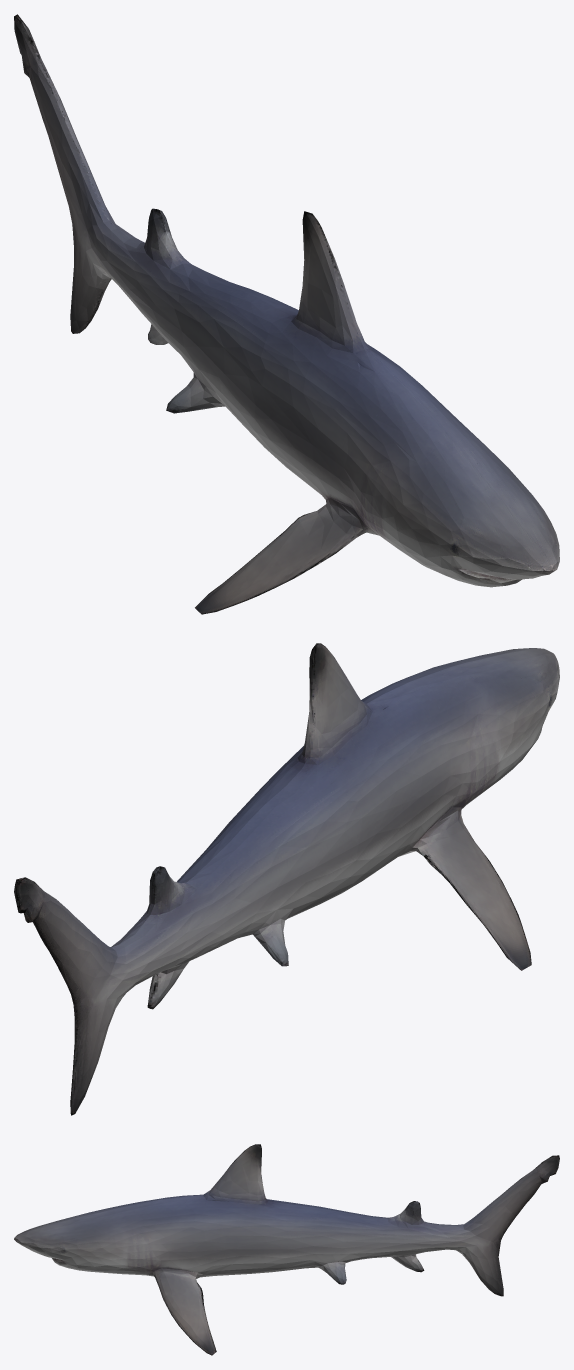
Rendered from shark.glb.
3 renders of one model, top to bottom at view 1: azimuth 30°, elevation 25°; view 2: azimuth 150°, elevation 25°; view 3: azimuth 270°, elevation 25°, orthographic. The views are drawn at different scales.
Parts seen in each view (by area): view 1: geometry_0; view 2: geometry_0; view 3: geometry_0.
Part boxes in pixels (x1,y1,x2,y2): geometry_0: [14, 14, 559, 614]; geometry_0: [14, 643, 559, 1115]; geometry_0: [14, 1144, 559, 1355].
Size of the model in its own units: 0.3549 by 0.3391 by 0.9911.
1 material, 1 textured.
